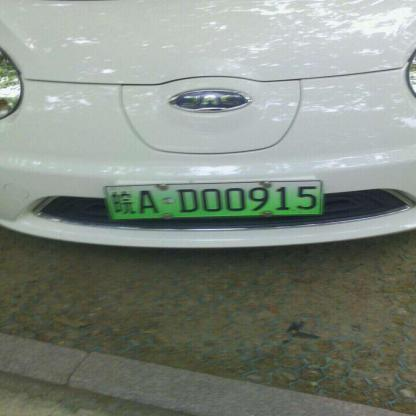lp: (104, 181, 321, 218)
